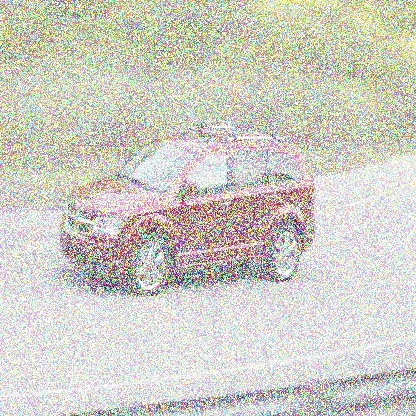Vehicle: (59, 124, 317, 294)
